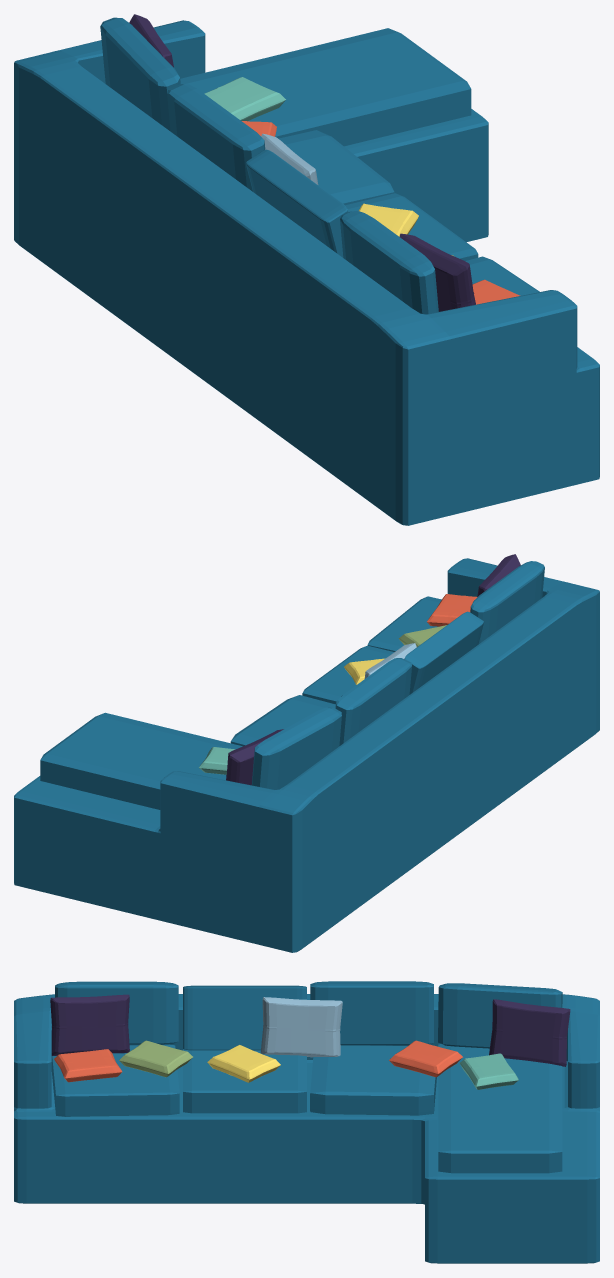
The model's file is sofa01.obj.
The picture shows the model from 3 angles, top to bottom: view 1: azimuth 30°, elevation 25°; view 2: azimuth 150°, elevation 25°; view 3: azimuth 270°, elevation 25°; orthographic projection. The views are drawn at different scales.
Visible parts, largest first — view 1: Cube.006_Cube.010; view 2: Cube.006_Cube.010; view 3: Cube.006_Cube.010.
Part boxes in pixels (left/top/right/bottom): Cube.006_Cube.010: left=14, top=14, right=599, bottom=525; Cube.006_Cube.010: left=14, top=554, right=599, bottom=952; Cube.006_Cube.010: left=14, top=981, right=599, bottom=1263.
Bounding box in the file's own units: 4.64 × 2.77 × 8.69.
